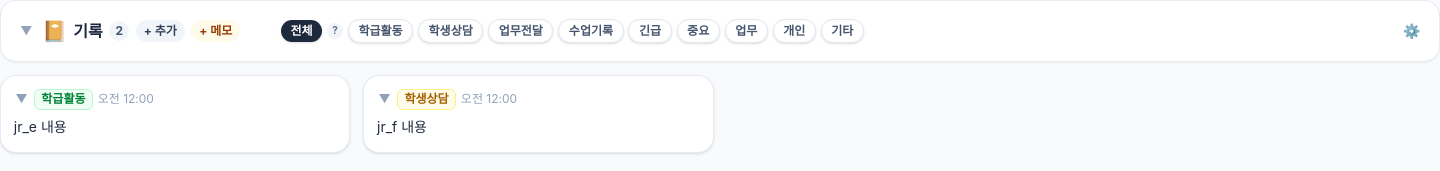
Test: DayJournal - 라벨 칩과 필터 › 라벨 필터를 누르면 그 라벨의 기록만 남는다
This screenshot has width=1440, height=171.
Click the button "학급활동" at coordinates (380, 31), box [348,19,413,43]
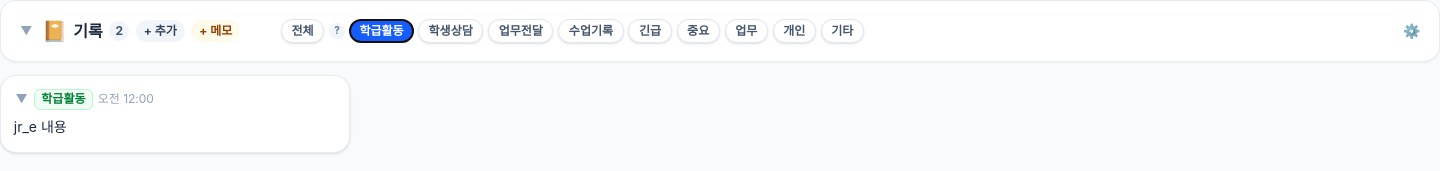
Expected: the text "jr_e 내용" is shown, [14,118,67,135]
Expected: the text "jr_f 내용" is gone
